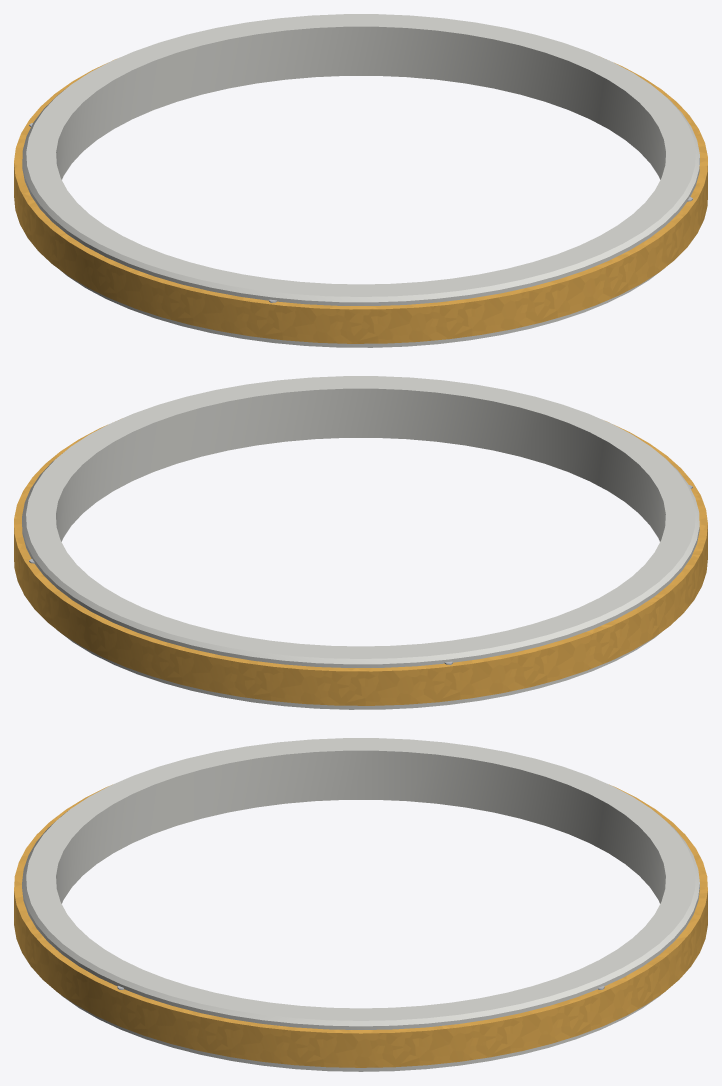
Rendered from ax_util_30_sunshade_xl.glb.
3 renders of one model, top to bottom at view 1: azimuth 30°, elevation 25°; view 2: azimuth 150°, elevation 25°; view 3: azimuth 270°, elevation 25°, orthographic.
Parts seen in each view (by area): view 1: canister_ring, membrane_stowed; view 2: canister_ring, membrane_stowed; view 3: canister_ring, membrane_stowed.
Boxes of the visible parts, <box> form: canister_ring: <box>22,14,699,347</box>; membrane_stowed: <box>14,59,707,343</box>; canister_ring: <box>22,376,699,709</box>; membrane_stowed: <box>14,421,707,705</box>; canister_ring: <box>22,738,699,1071</box>; membrane_stowed: <box>14,784,707,1067</box>.
Bounding box in the file's own units: 5.12 × 0.4 × 5.12.
Materials: 3 (2 with a texture image).
